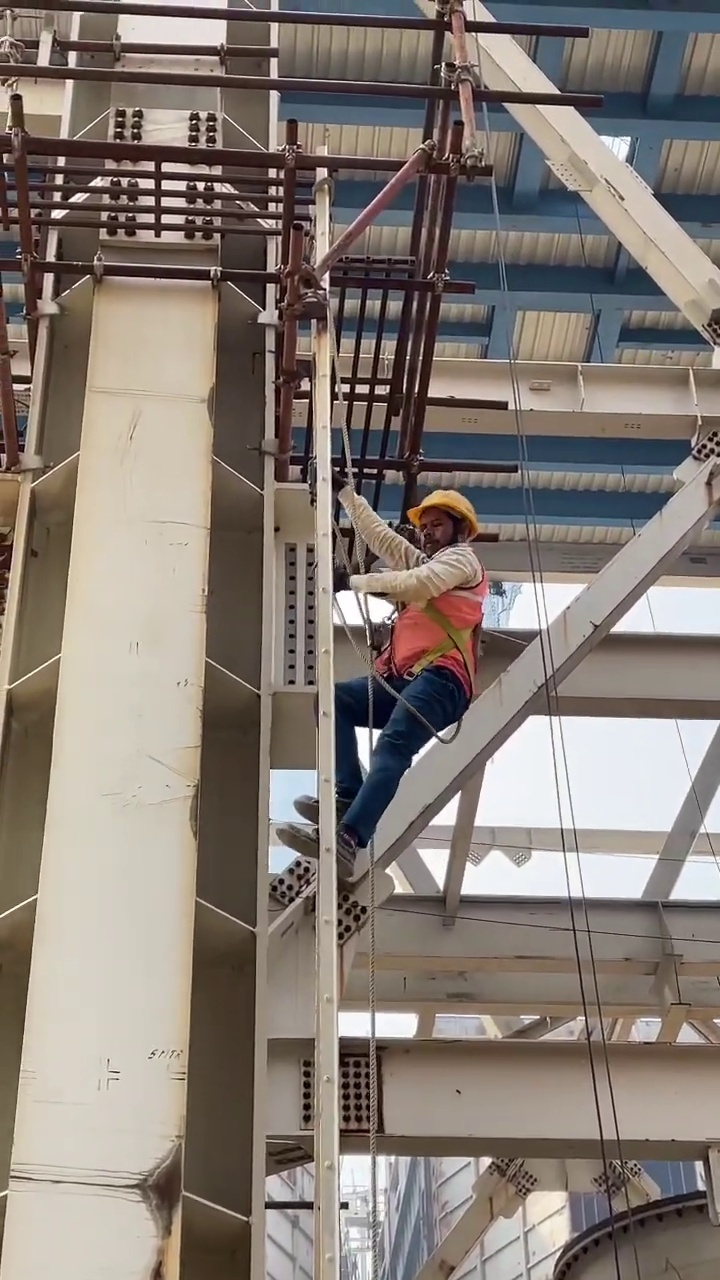Helmet: (408, 488, 478, 529)
Person: (271, 486, 484, 880)
Safety_Harness: (358, 542, 484, 734)
Safety_shoes: (277, 816, 358, 879), (293, 790, 346, 818)
